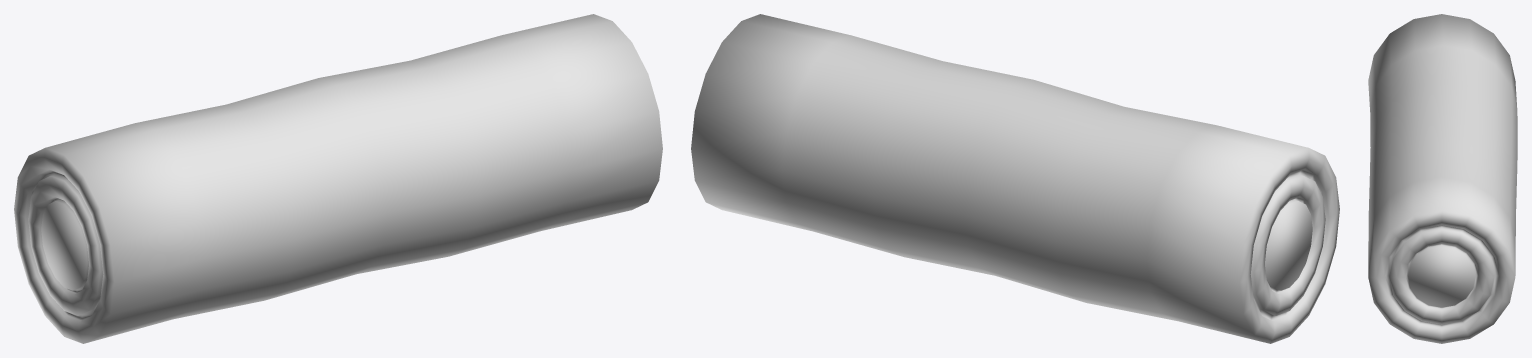
The model's file is Towel.fbx.
3 views of the same model, side by side, from view 1: azimuth 30°, elevation 25°; view 2: azimuth 150°, elevation 25°; view 3: azimuth 270°, elevation 25° (orthographic). The views are drawn at different scales.
Parts seen in each view (by area): view 1: Prop_Towel_02; view 2: Prop_Towel_02; view 3: Prop_Towel_02.
Part boxes in pixels (x1,y1,x2,y2): Prop_Towel_02: (14, 14, 662, 343); Prop_Towel_02: (691, 14, 1339, 343); Prop_Towel_02: (1368, 14, 1517, 343).
Size of the model in its own units: 45.83 by 14.76 by 14.63.
1 material, 1 textured.
